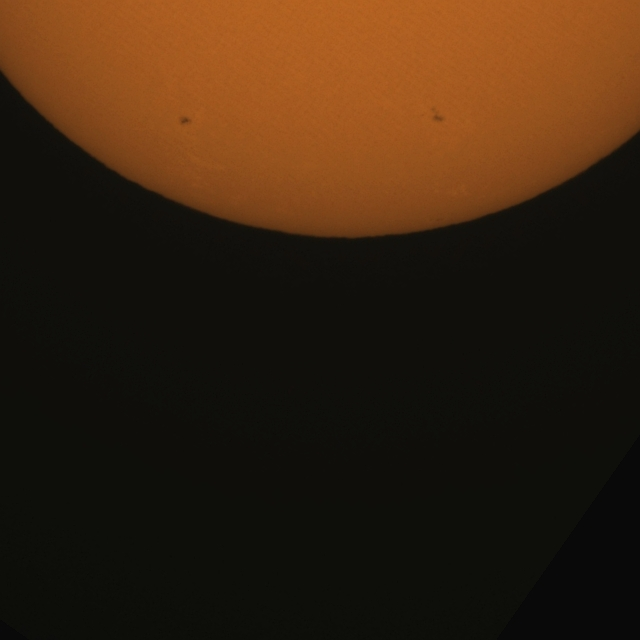sunspot: (428, 106, 446, 125), (178, 115, 193, 131)
